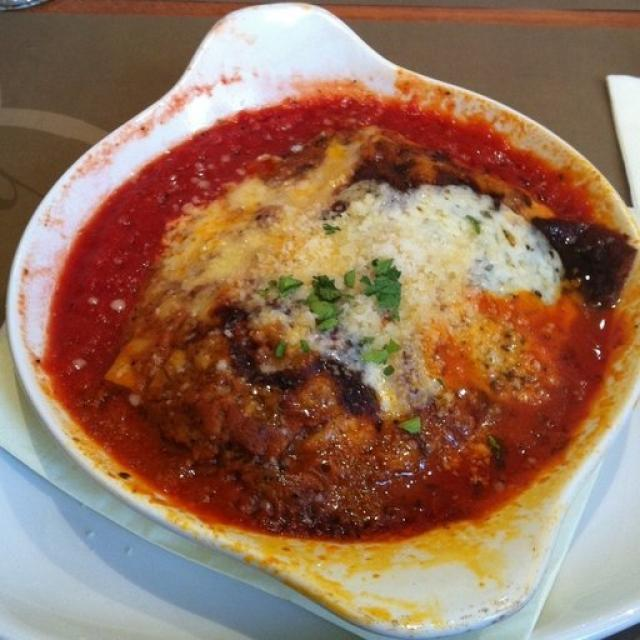Lasagna: (85, 141, 595, 519)
